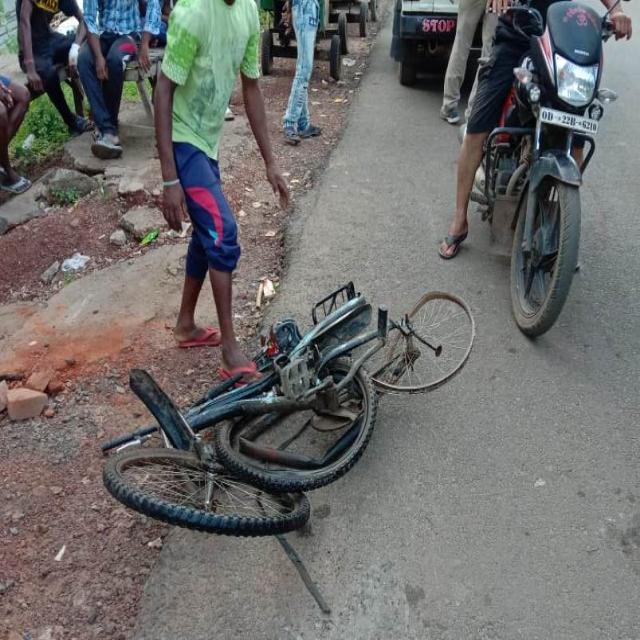accident: (102, 282, 475, 535)
motorcycle: (440, 0, 614, 335)
